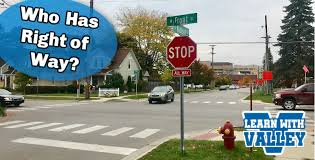stop sign: (164, 36, 197, 69)
